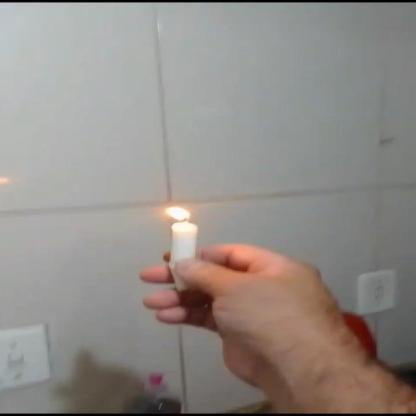fire: (164, 204, 193, 224)
